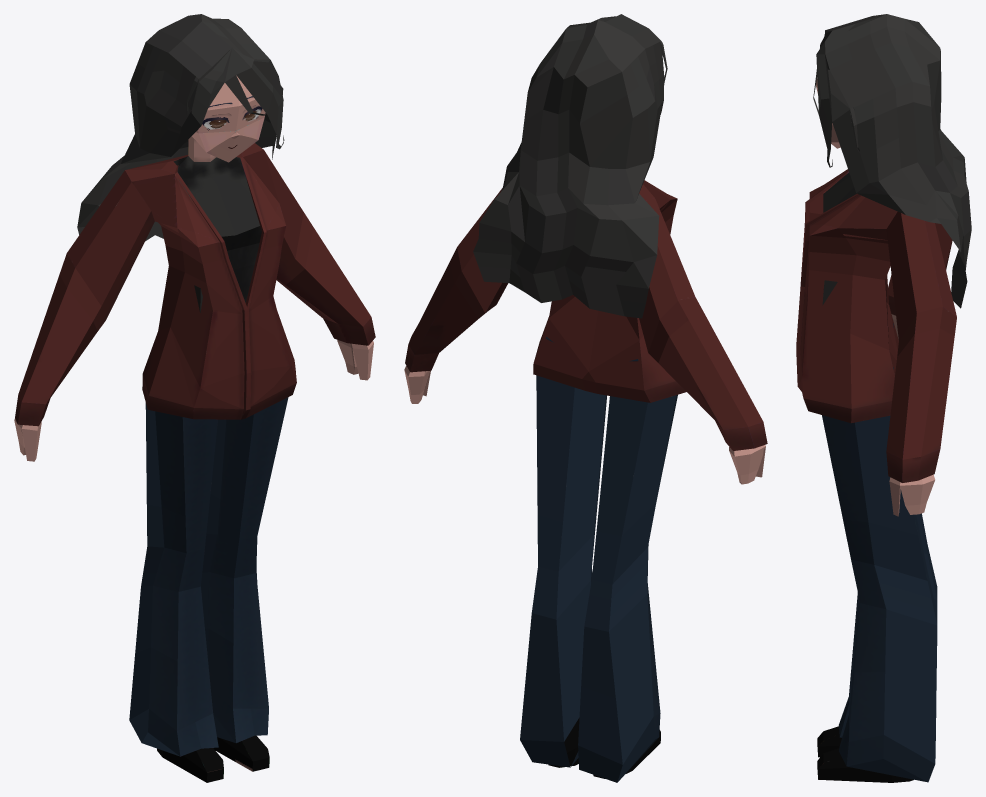
File: low_poly_char_V5.fbx
The picture shows the model from 3 angles, left to right: view 1: azimuth 30°, elevation 25°; view 2: azimuth 150°, elevation 25°; view 3: azimuth 270°, elevation 25°; orthographic projection.
Visible parts, largest first — view 1: new hoodie, jeans, hair, body, FACE; view 2: jeans, hair, new hoodie, body; view 3: new hoodie, jeans, hair, body.
Part boxes in pixels (bbox=[...]): new hoodie: bbox=[15, 143, 375, 426]; jeans: bbox=[129, 397, 288, 756]; hair: bbox=[77, 14, 284, 241]; body: bbox=[14, 125, 373, 782]; FACE: bbox=[198, 75, 265, 162]; jeans: bbox=[520, 337, 677, 782]; hair: bbox=[473, 14, 667, 318]; new hoodie: bbox=[405, 180, 767, 450]; body: bbox=[404, 365, 765, 778]; new hoodie: bbox=[796, 169, 956, 482]; jeans: bbox=[822, 323, 937, 782]; hair: bbox=[813, 14, 971, 308]; body: bbox=[817, 123, 935, 782].
Bounding box in the file's own units: 98.79 × 194 × 41.31.
